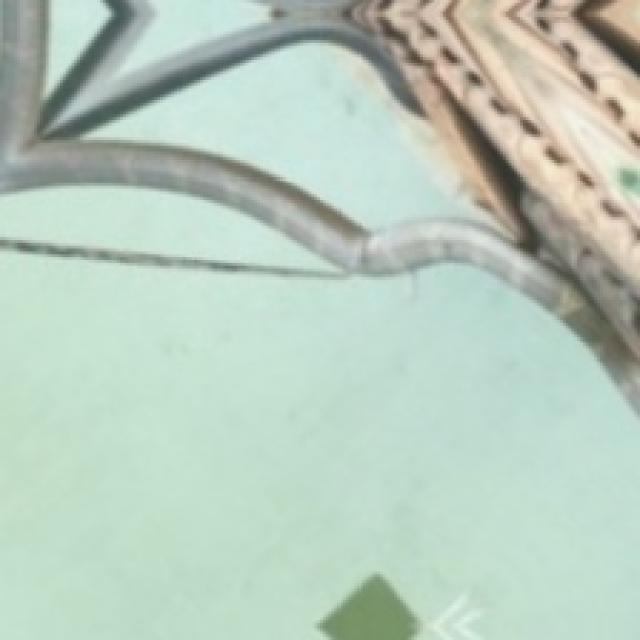king cobra: (0, 251, 637, 637), (89, 43, 489, 226), (0, 186, 334, 271), (126, 0, 266, 66)
